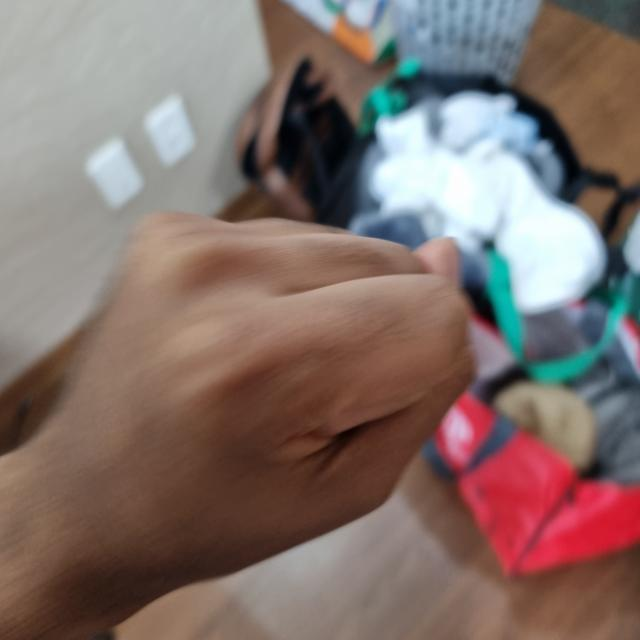Rock: (10, 209, 460, 596)
